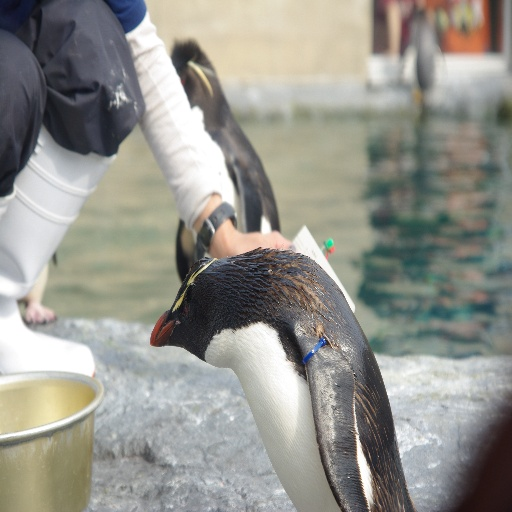hand: (215, 229, 293, 258)
